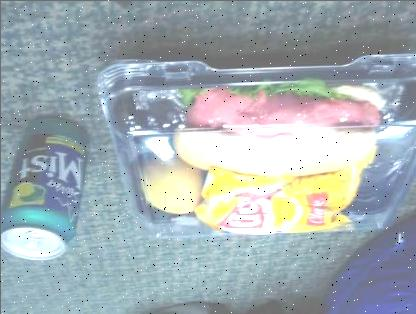Can: (1, 114, 87, 262)
